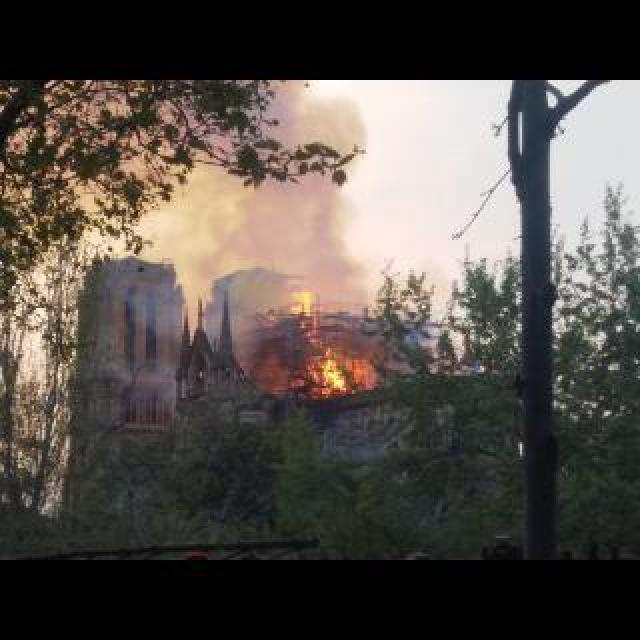smoke: (154, 170, 376, 278)
zfire: (284, 278, 380, 404)
